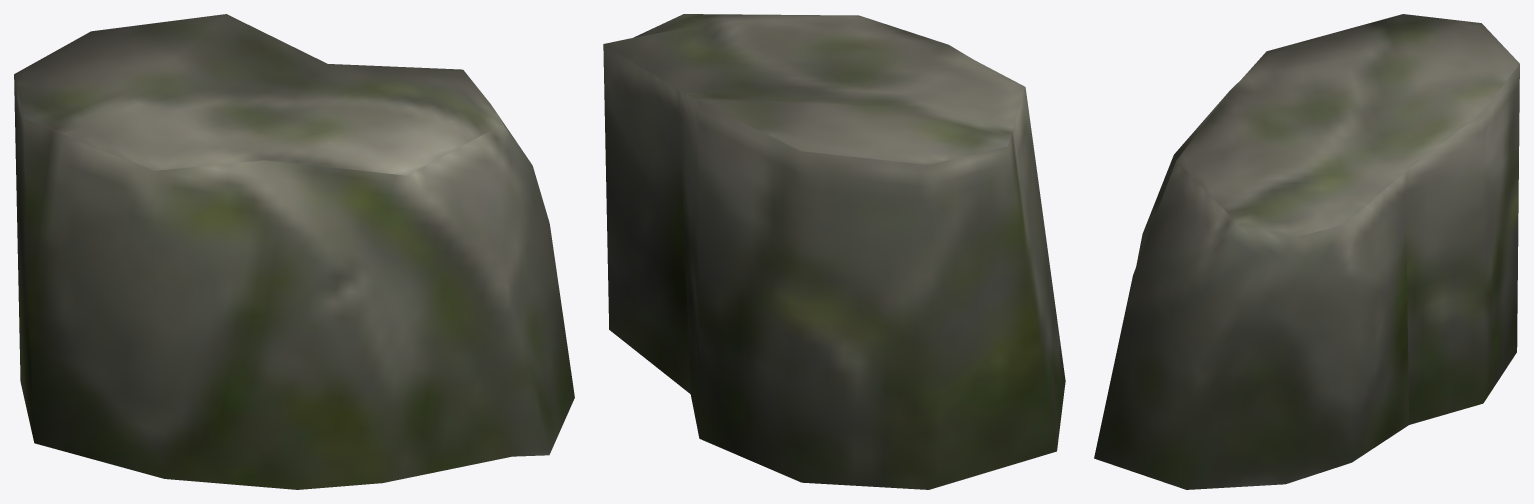
File: Stage_ZhuCheng_HeShi06.FBX
3 views of the same model, side by side, from view 1: azimuth 30°, elevation 25°; view 2: azimuth 150°, elevation 25°; view 3: azimuth 270°, elevation 25° (orthographic). The views are drawn at different scales.
Visible parts, largest first — view 1: Stage_ZhuCheng_HeShi06; view 2: Stage_ZhuCheng_HeShi06; view 3: Stage_ZhuCheng_HeShi06.
Boxes of the visible parts, <box> form: Stage_ZhuCheng_HeShi06: <box>14,14,574,489</box>; Stage_ZhuCheng_HeShi06: <box>603,14,1065,489</box>; Stage_ZhuCheng_HeShi06: <box>1094,14,1519,489</box>.
Bounding box in the file's own units: 65.62 × 43.89 × 57.55.
